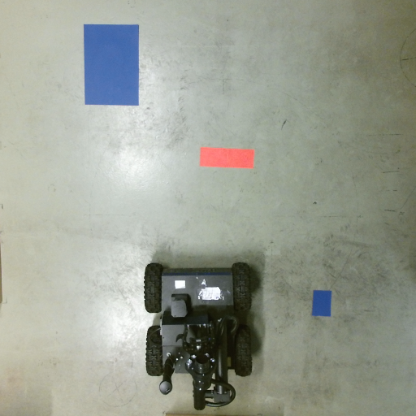Blue: (81, 22, 141, 109), (309, 287, 334, 317)
Jaguar: (143, 261, 258, 412)
Red: (198, 145, 256, 171)
